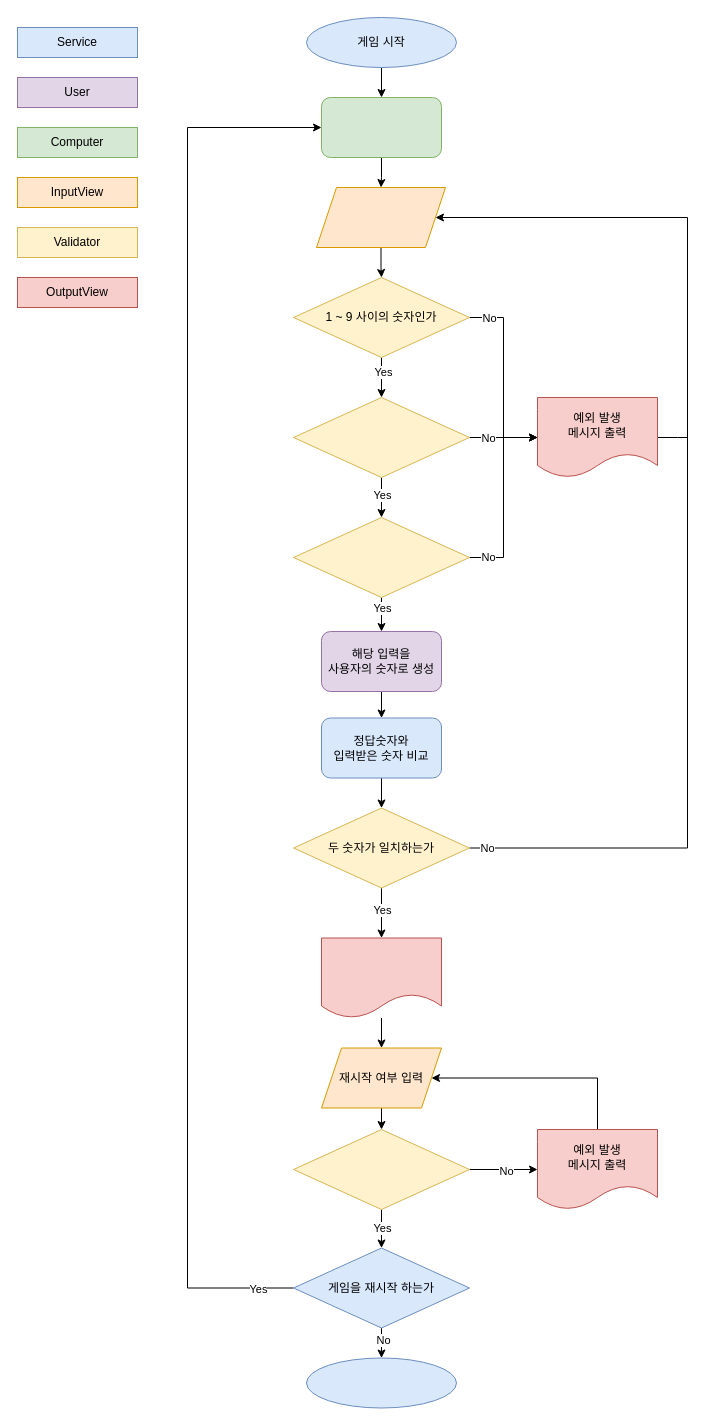
This 713x1426 diagram has some shape labels left out. Here are the shapes that lost their labels. From the top down, the centre of each, then its label:
At pixel 381 127: "정답숫자생성".
At pixel 381 217: "사용자 숫자 입력".
At pixel 381 437: "중복되는 숫자인가".
At pixel 381 557: "세자리인가".
At pixel 381 977: "게임종료 메시지 및 재시작 여부 메시지 출력".
At pixel 381 1169: "값이 1 혹은 2 인가".
At pixel 381 1382: "게임 종료".
